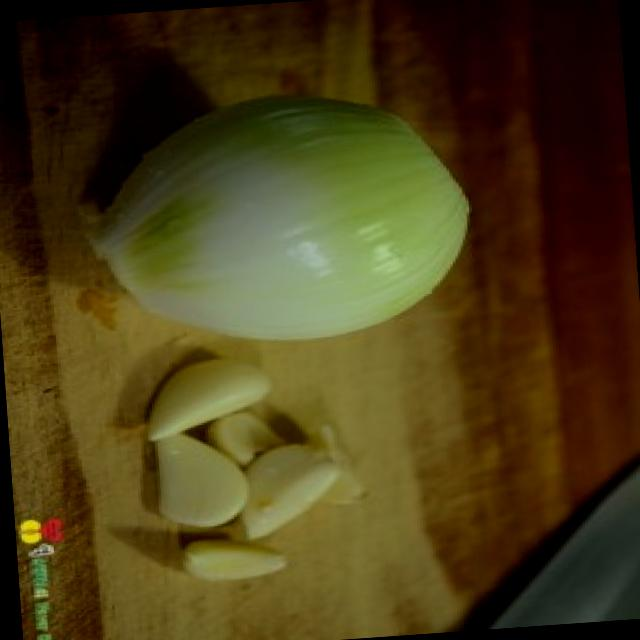onion: (57, 68, 497, 382)
